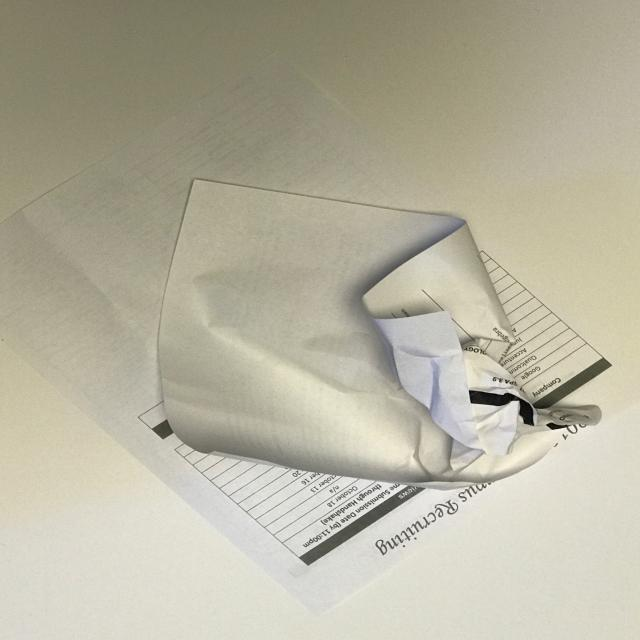paper: (154, 177, 606, 490)
